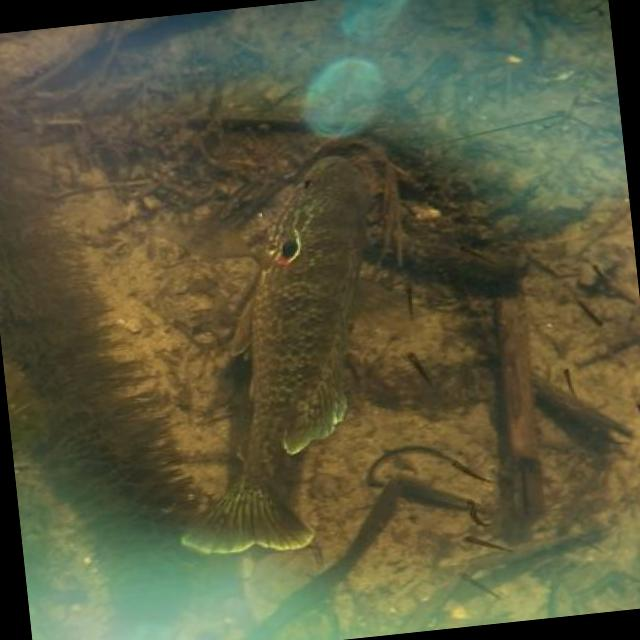Gunes Levregi: (136, 144, 408, 560)
